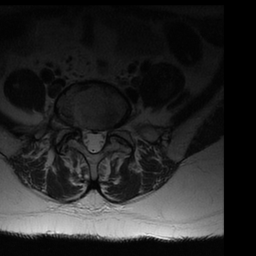CCS_normal: (90, 124, 98, 157)
LFS_severe_stenosis: (106, 120, 115, 141)
LLS_normal: (98, 125, 106, 154)
RFS_severe_stenosis: (74, 116, 82, 138)
RLS_normal: (82, 123, 90, 153)
